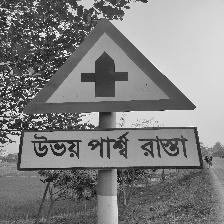Crossroad: (16, 6, 208, 176)
